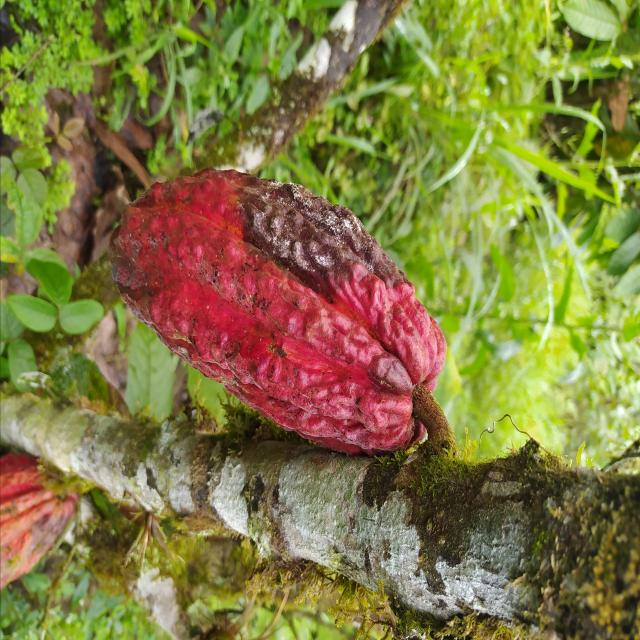Fitoftora: (107, 166, 447, 454)
